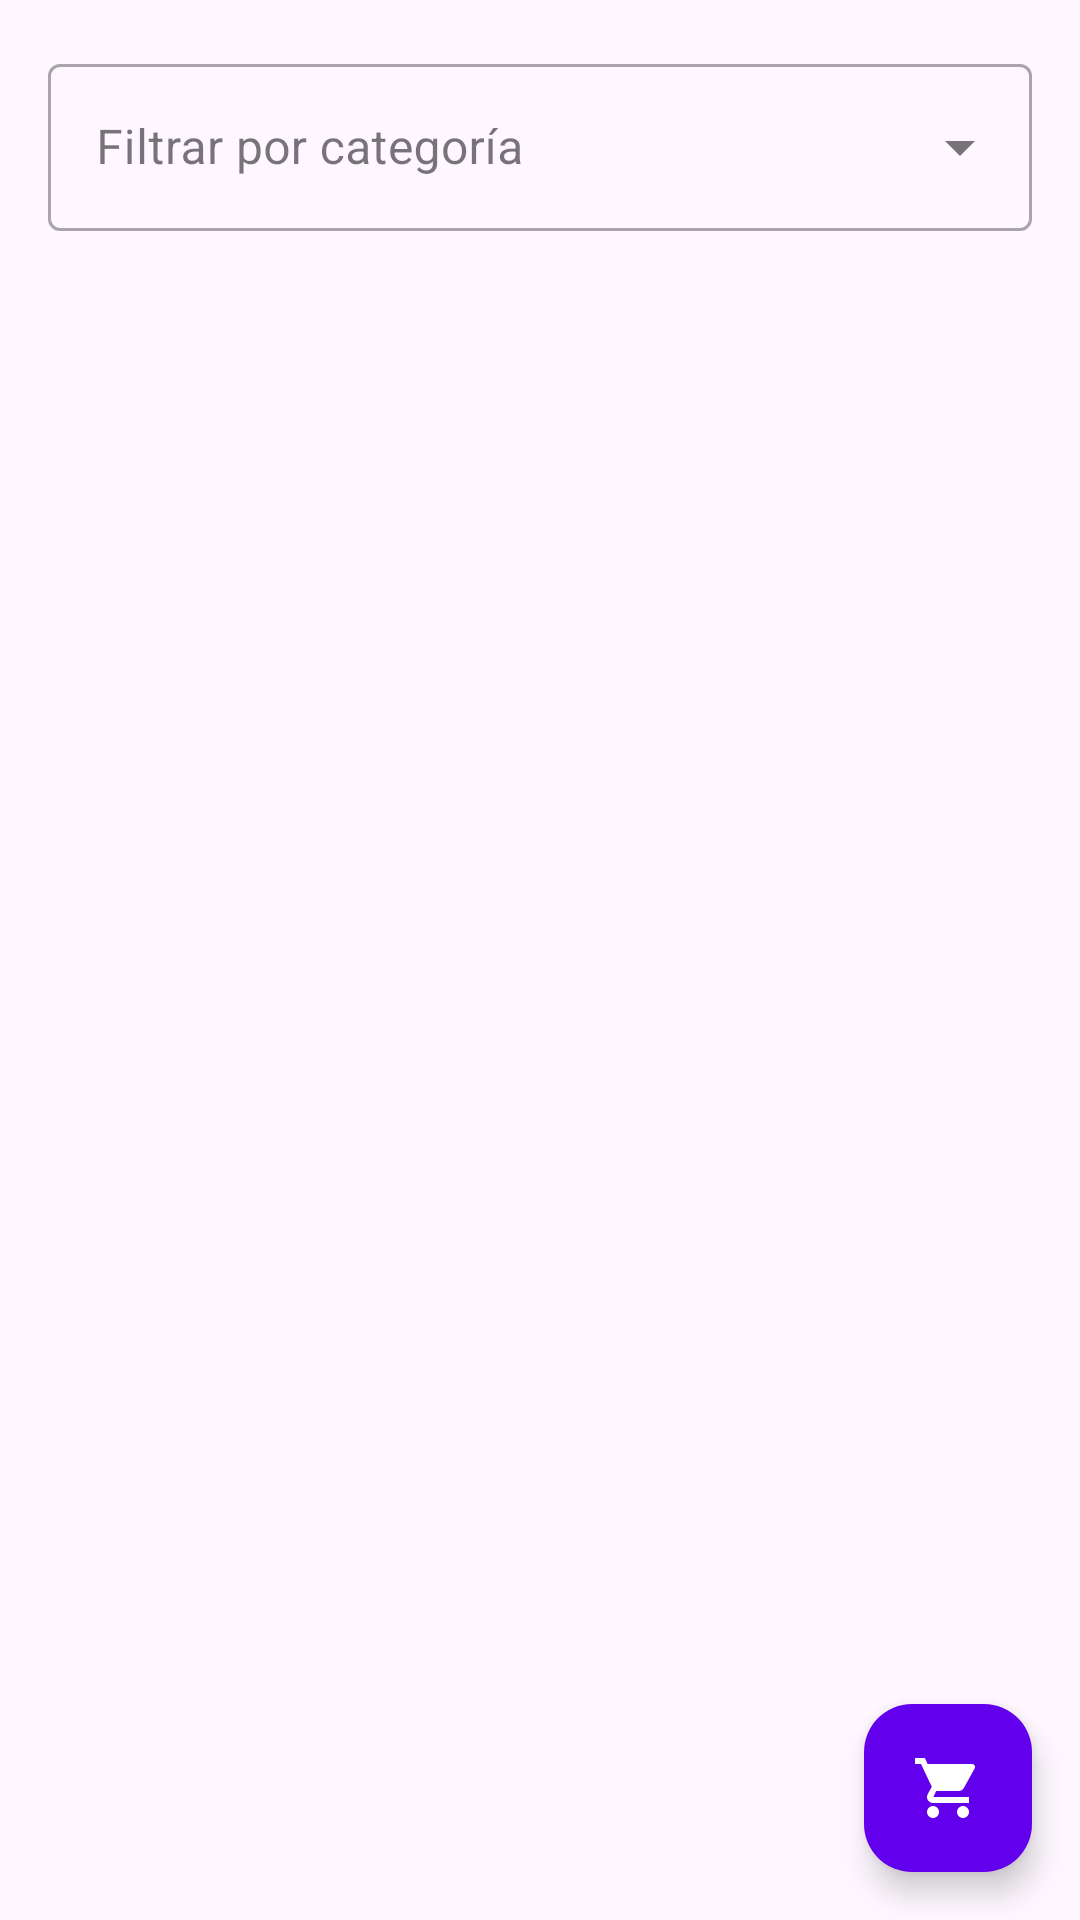

Named icons in this screenshot (1080w x 1920h) and their centers, [x,y]:
cart: [948,1788]
